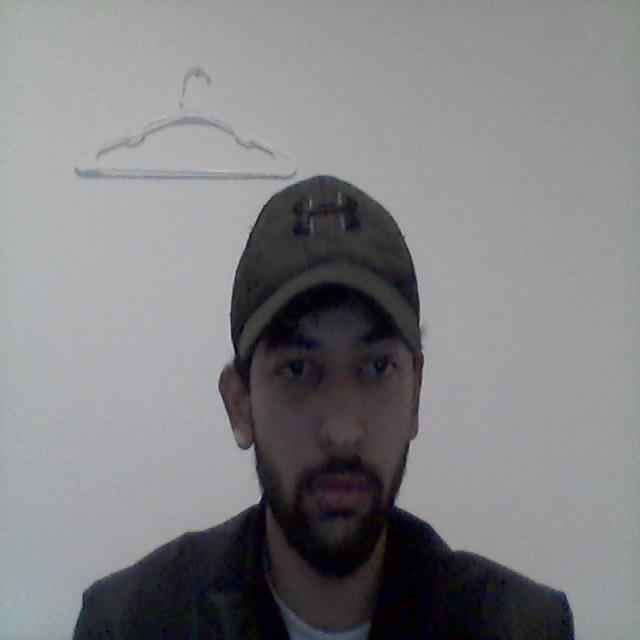cap: (209, 162, 455, 370)
